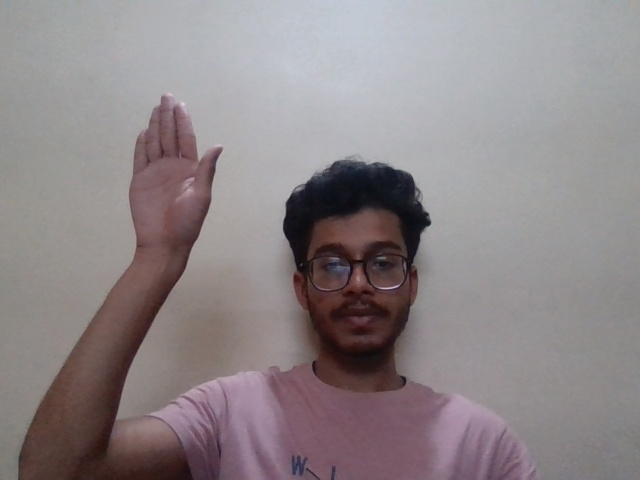hello: (128, 90, 247, 259)
